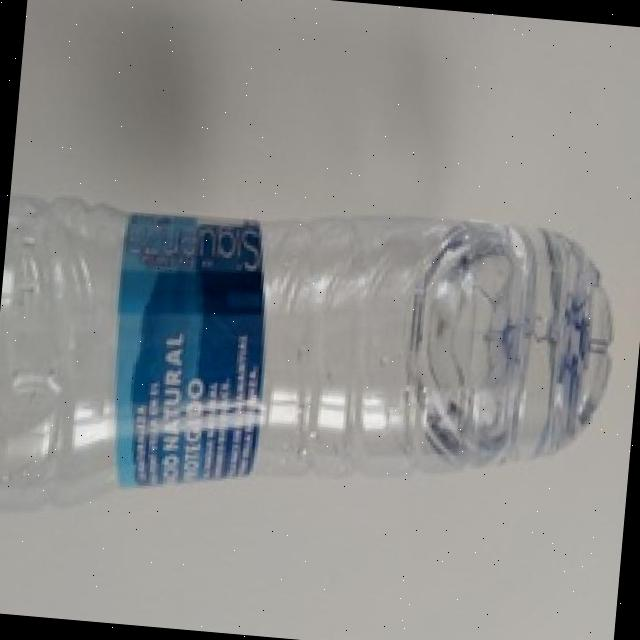bottle: (0, 155, 640, 541)
label: (89, 199, 295, 516)
